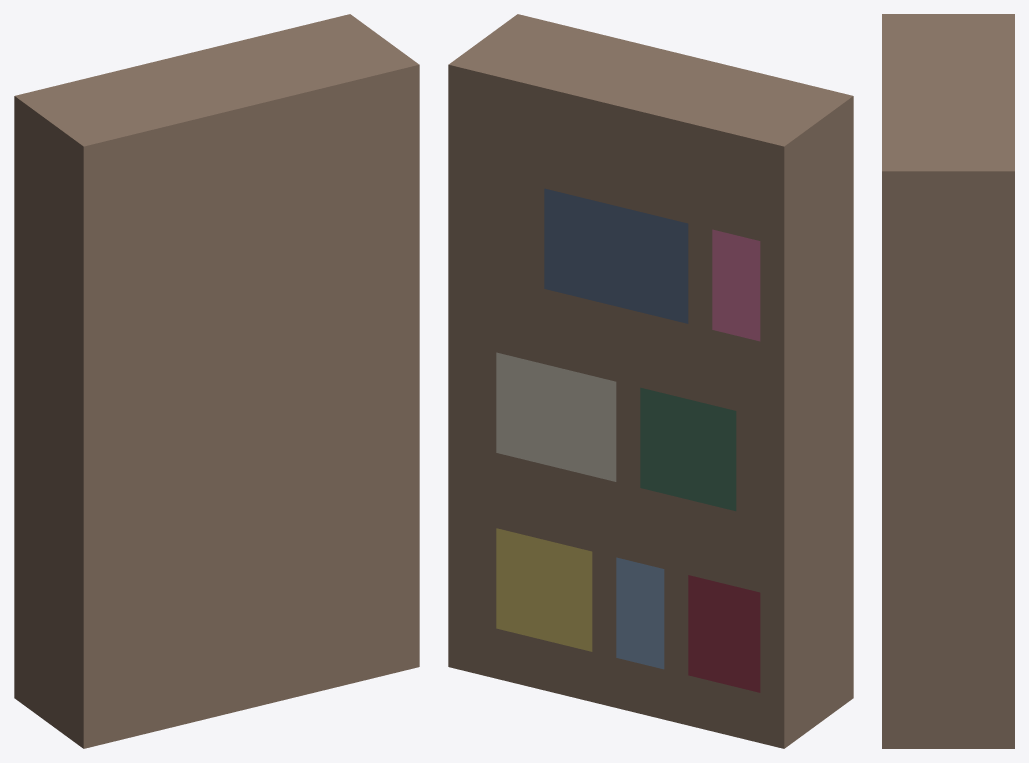
Rendered from etagere.glb.
3 views of the same model, side by side, from view 1: azimuth 30°, elevation 25°; view 2: azimuth 150°, elevation 25°; view 3: azimuth 270°, elevation 25° (orthographic). The views are drawn at different scales.
Visible parts, largest first — view 1: main; view 2: main; view 3: main.
Part boxes in pixels (x1,y1,x2,y2): main: (14,14,419,748); main: (448,14,853,748); main: (882,14,1014,748).
Size of the model in its own units: 0.875 by 1.5 by 0.3125.
